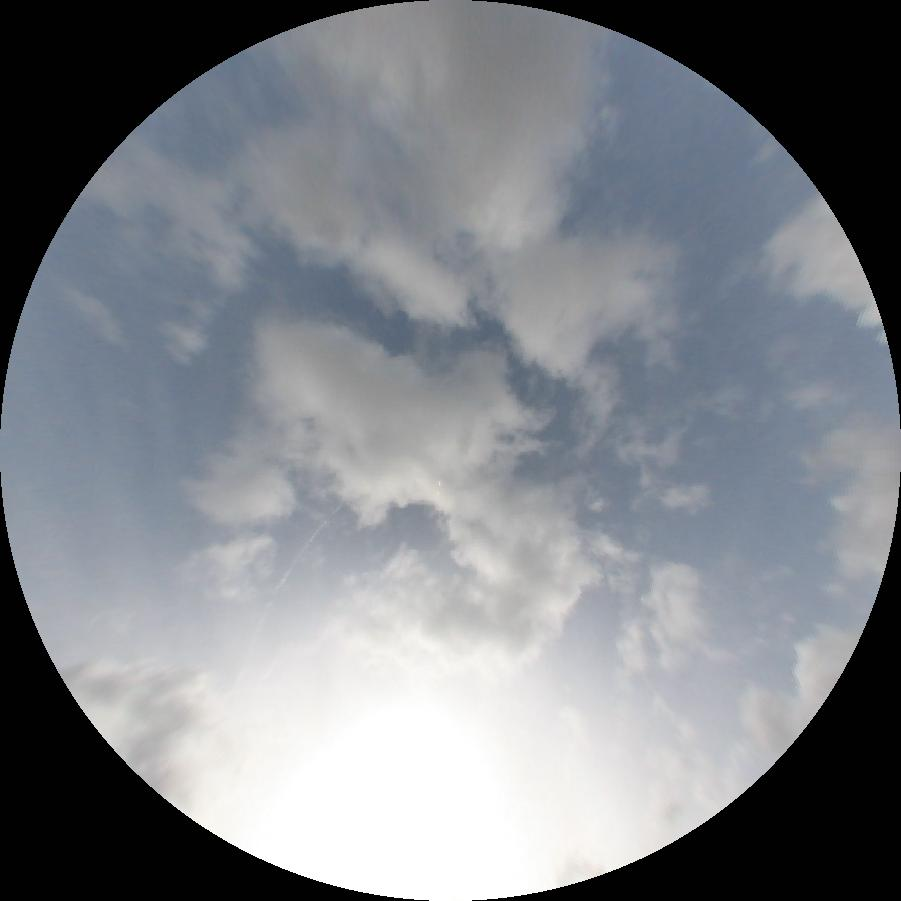contrail young: (236, 502, 346, 686), (672, 203, 728, 244)
sun: (236, 665, 543, 901)
